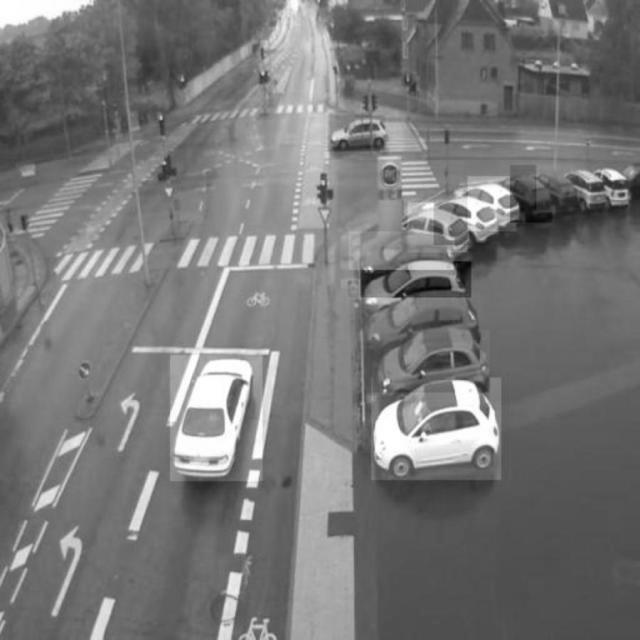vehicle: (371, 378, 501, 480), (170, 355, 262, 481), (372, 329, 490, 393), (369, 292, 481, 343), (360, 262, 471, 298), (350, 231, 454, 269), (434, 185, 498, 246), (407, 204, 468, 254), (468, 177, 516, 232), (510, 165, 552, 222), (328, 115, 385, 151), (536, 164, 574, 212)
